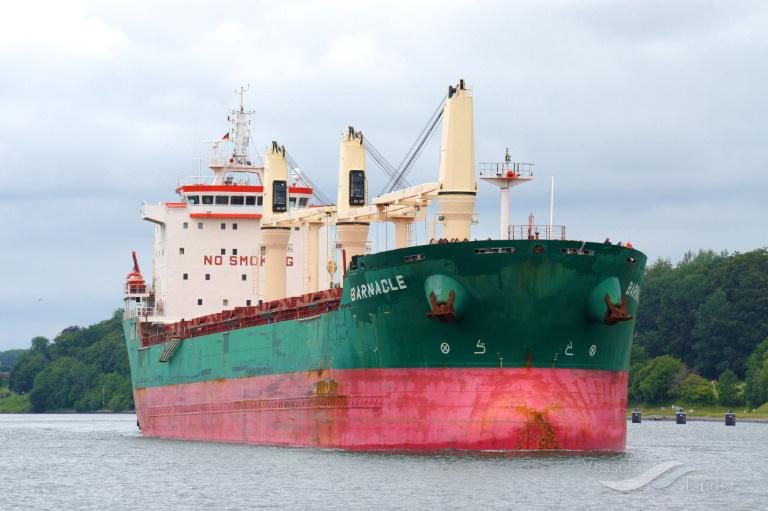OCR: (344, 275, 418, 305)
